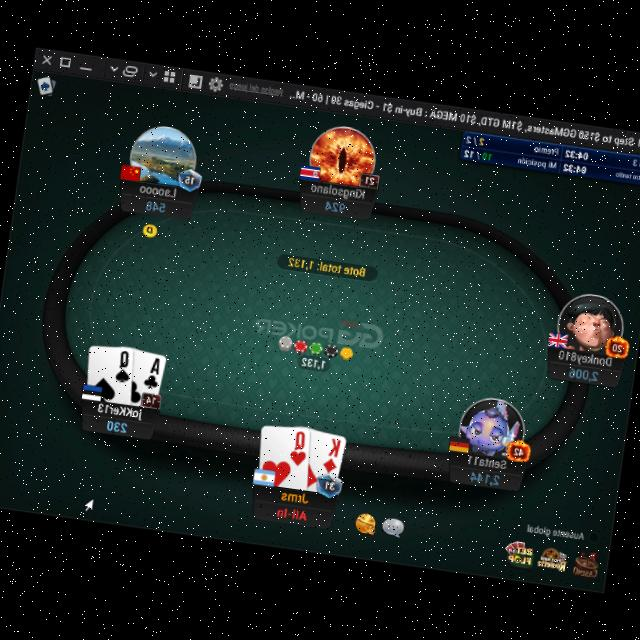Ac: (140, 354, 164, 392)
Kd: (320, 436, 342, 476)
Qh: (286, 426, 314, 469)
Qs: (112, 348, 135, 384)
all_in_symbol: (274, 504, 311, 524)
bet_text: (296, 354, 328, 373)
dealer: (140, 219, 160, 240)
pot_text: (287, 256, 368, 280)
stack_text: (468, 468, 503, 488), (566, 364, 600, 384), (142, 197, 170, 217), (104, 417, 130, 437), (322, 198, 346, 216)
